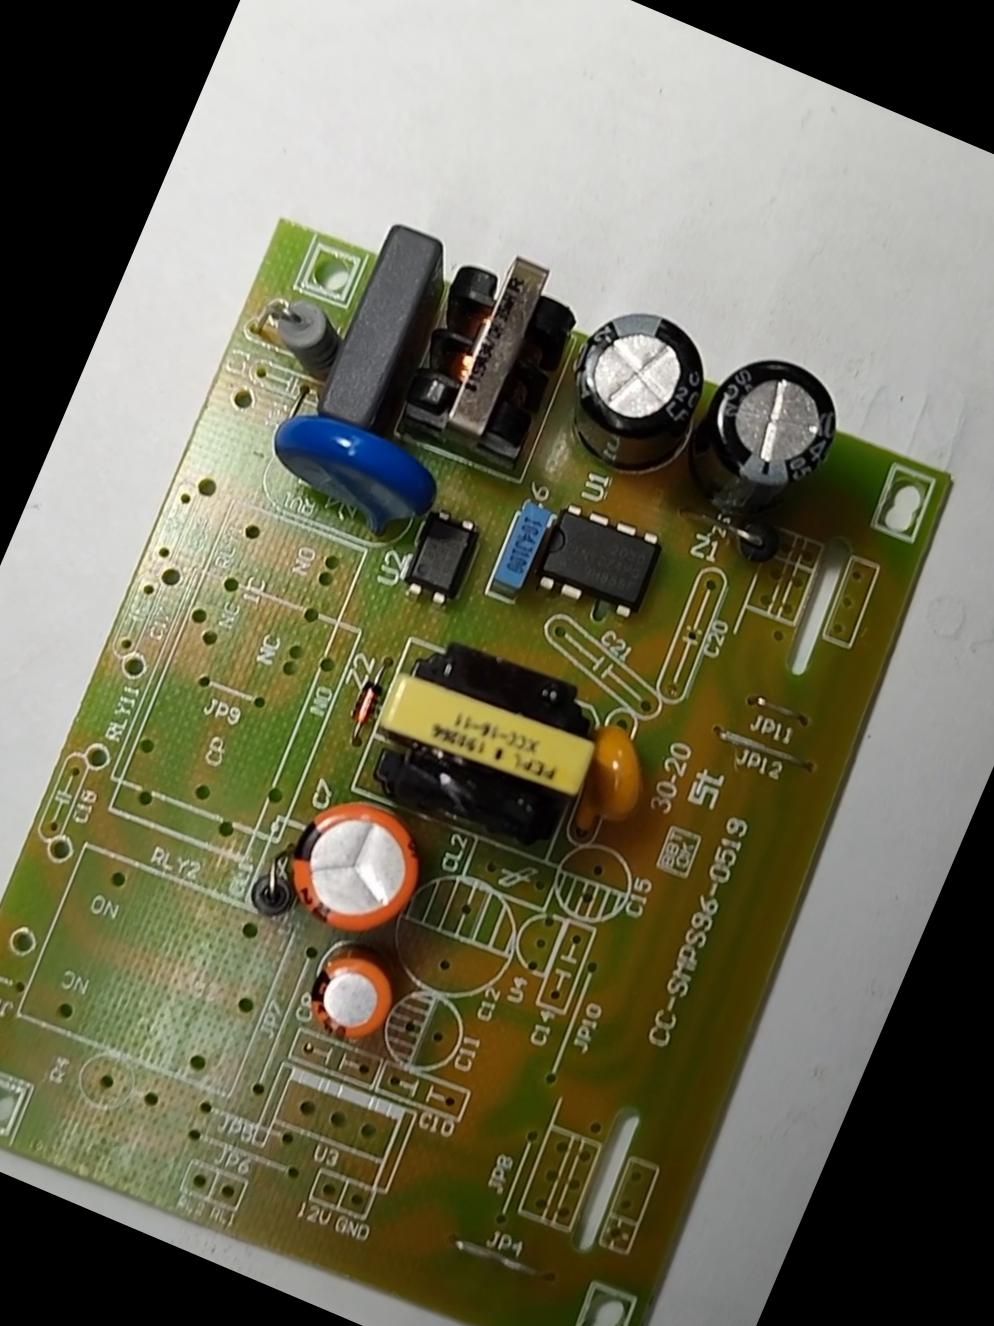Cap1: (270, 778, 439, 948)
Cap2: (297, 936, 407, 1050)
Cap3: (541, 288, 725, 492)
Cap4: (672, 340, 855, 542)
MOSFET: (521, 493, 668, 629)
Mov: (257, 394, 449, 546)
Resistor: (253, 289, 356, 387)
Transformer: (346, 618, 624, 875), (388, 235, 593, 466)
